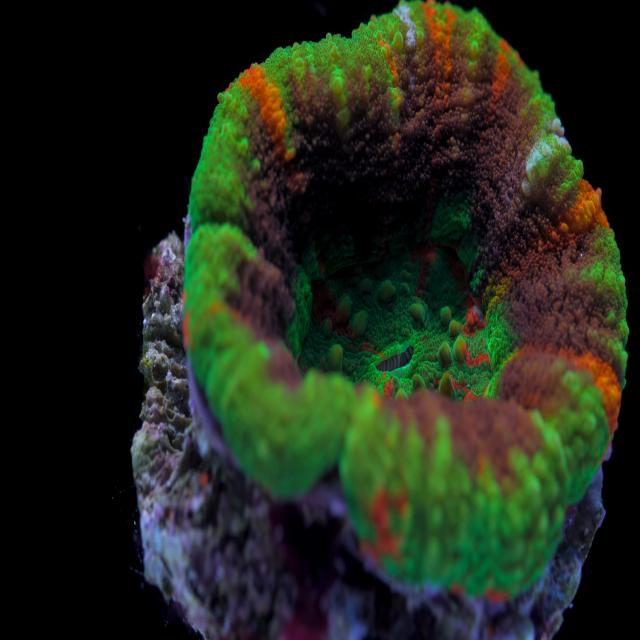Scolymia-Vitiensis -Poisonous-: (185, 0, 627, 591)
